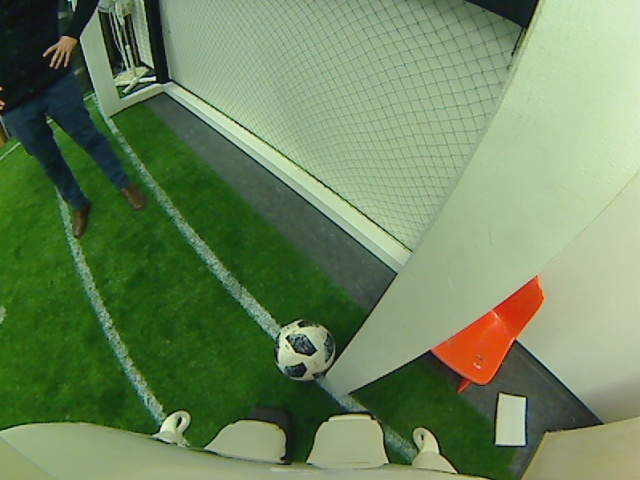ball: (274, 317, 336, 383)
